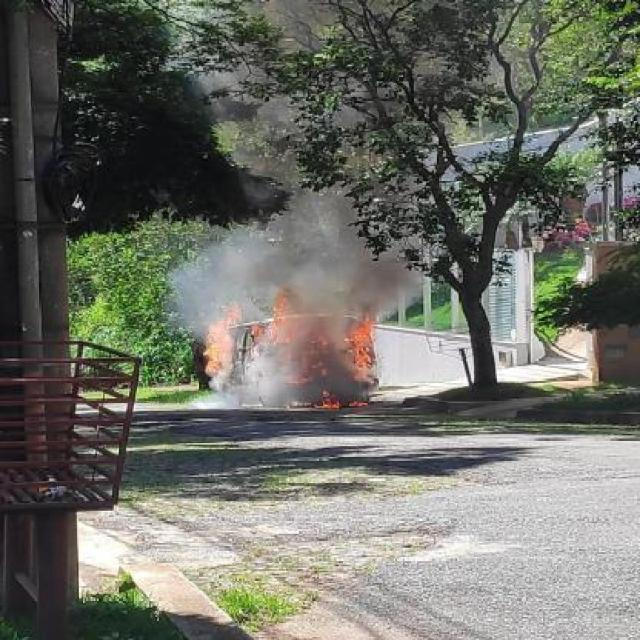Fire: (197, 292, 383, 420)
Smoke: (124, 209, 433, 331)
